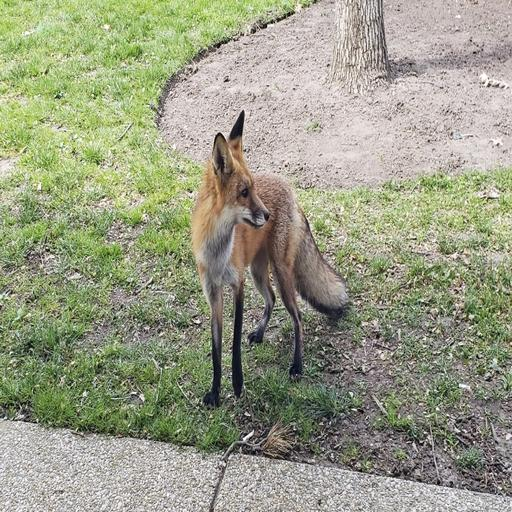Fox: (192, 102, 358, 418)
